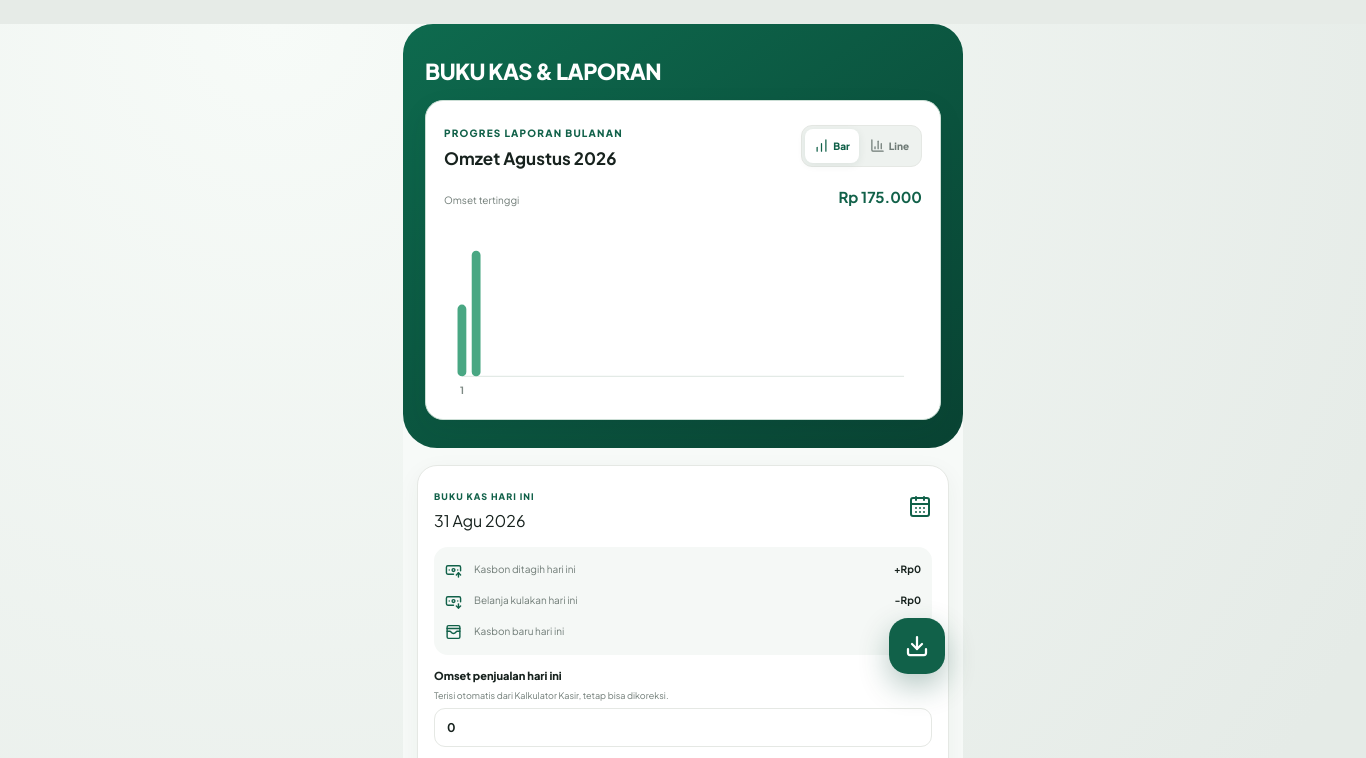
Test: CashflowDashboard monthly revenue chart › opens a month chooser from a floating report button before downloading
Check: the dialog "Download laporan bulanan" is not shown
Click the button named "Download laporan bulanan".
click(917, 646)  # box [889,618,945,674]
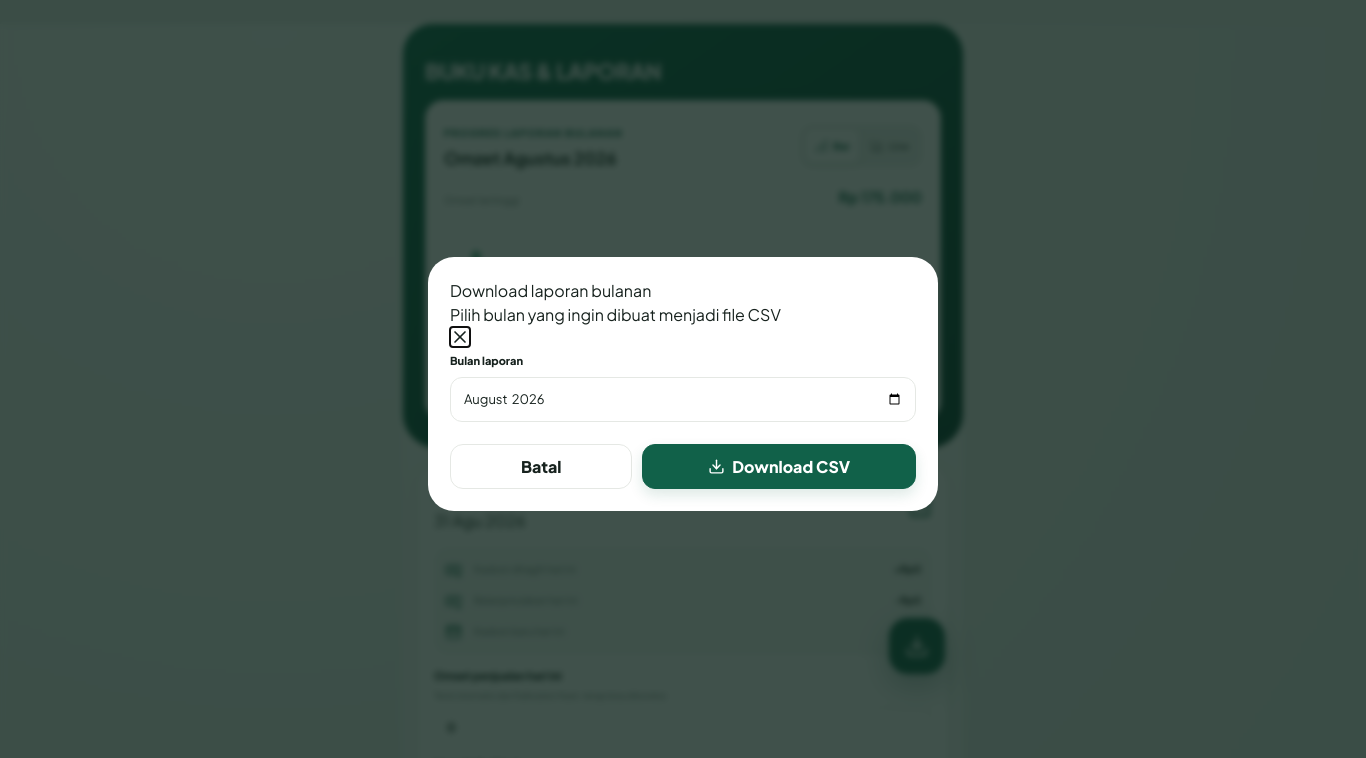
Check: the field labelled "Bulan laporan" holds "2026-08", box [450,376,916,422]
Check: the button "Download CSV" is shown, box [642,444,916,489]
